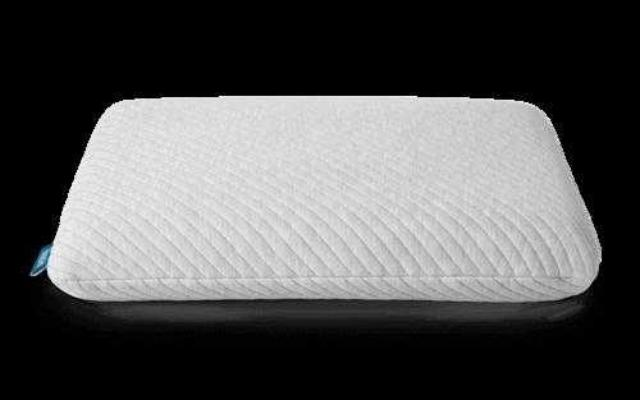pillow: (34, 94, 602, 304)
